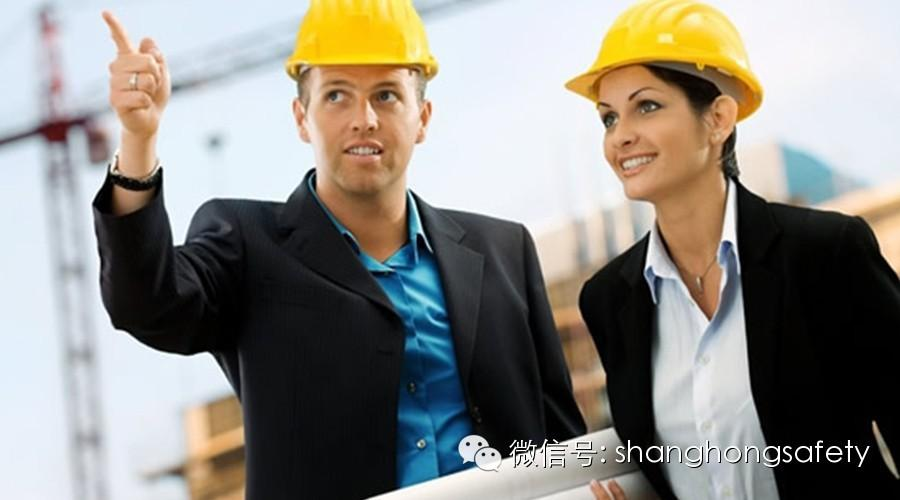helmet: (566, 1, 768, 126), (287, 1, 443, 78)
